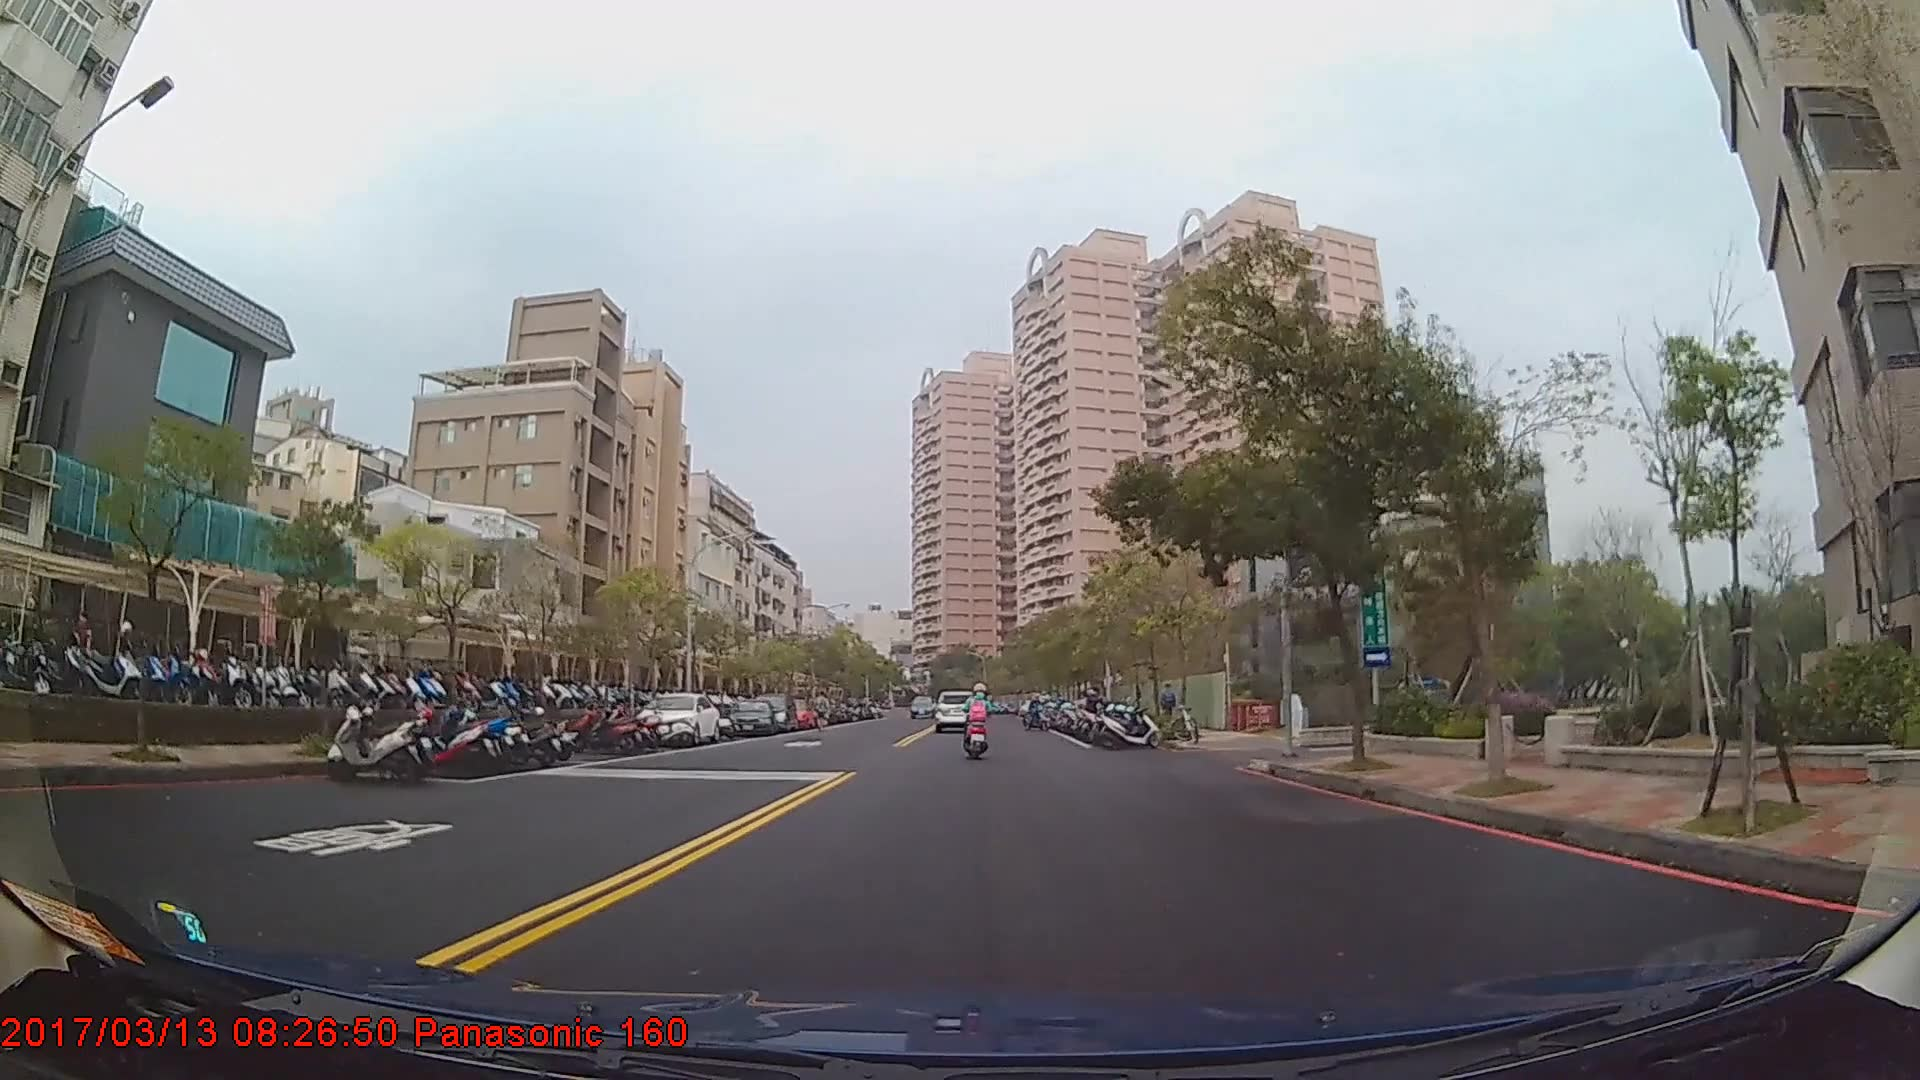pedestrian: (1160, 682, 1180, 731)
rider: (965, 683, 996, 758)
vehicle: (633, 690, 721, 745), (930, 687, 980, 731), (748, 695, 796, 738), (724, 699, 777, 738), (907, 695, 935, 719)
